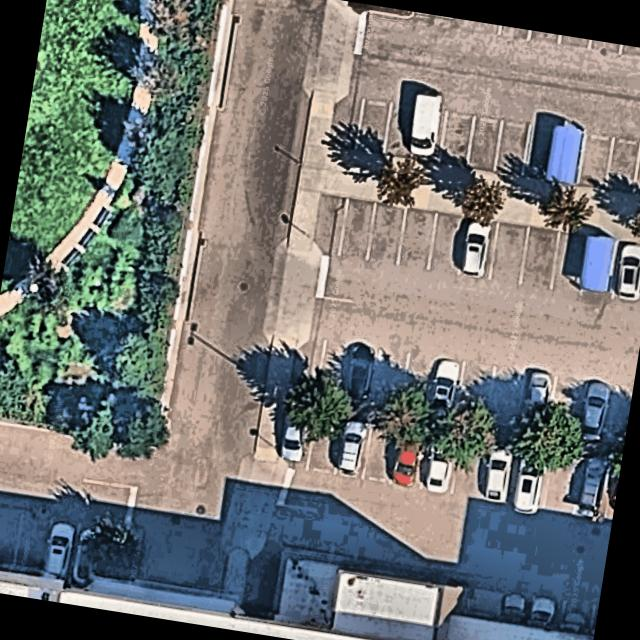car: (514, 365, 554, 435), (508, 447, 547, 517), (406, 87, 444, 157), (576, 378, 614, 443), (40, 519, 79, 581), (427, 354, 464, 418), (457, 217, 495, 279), (574, 452, 610, 516), (480, 443, 517, 505), (343, 342, 380, 402), (422, 433, 458, 492), (336, 415, 370, 473), (70, 524, 102, 584), (389, 430, 423, 486), (611, 239, 640, 299), (278, 411, 309, 464), (527, 592, 560, 628), (560, 602, 591, 634), (504, 588, 531, 623), (606, 457, 622, 512)
lot_boundary: (0, 0, 640, 636)
objects: (321, 149, 640, 245), (288, 394, 624, 462), (545, 117, 586, 187), (577, 233, 619, 296)
stall: (512, 371, 557, 434), (575, 381, 618, 443), (307, 413, 345, 474), (333, 417, 371, 478), (363, 422, 401, 483), (421, 431, 459, 492), (451, 437, 489, 498), (573, 457, 611, 518), (543, 452, 581, 513), (514, 449, 552, 510), (481, 441, 519, 502), (279, 408, 317, 469), (399, 353, 437, 414), (371, 349, 409, 410), (343, 344, 381, 405), (317, 339, 355, 400), (290, 335, 328, 396), (483, 367, 521, 428), (457, 362, 495, 423), (427, 357, 465, 418), (547, 378, 585, 439), (311, 194, 349, 254), (391, 426, 429, 486), (339, 199, 377, 258), (368, 204, 406, 262), (521, 227, 559, 285), (399, 209, 437, 267), (491, 224, 529, 282), (429, 213, 467, 271), (459, 218, 497, 276), (437, 109, 475, 167), (576, 133, 614, 191), (13, 515, 49, 575), (551, 230, 586, 291), (384, 100, 419, 160), (356, 98, 392, 156), (466, 113, 502, 171), (494, 118, 530, 176), (604, 136, 640, 194), (411, 105, 447, 163), (328, 93, 364, 151), (41, 522, 75, 579), (522, 122, 554, 179), (67, 524, 97, 584), (613, 240, 640, 298), (607, 388, 633, 447), (0, 510, 23, 570), (527, 594, 565, 630), (560, 598, 592, 634), (501, 590, 532, 626), (603, 460, 621, 517), (632, 141, 640, 199)
